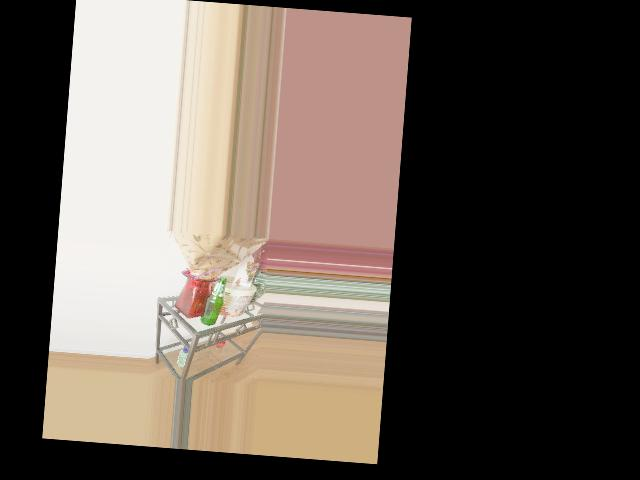beer: (200, 275, 227, 326)
